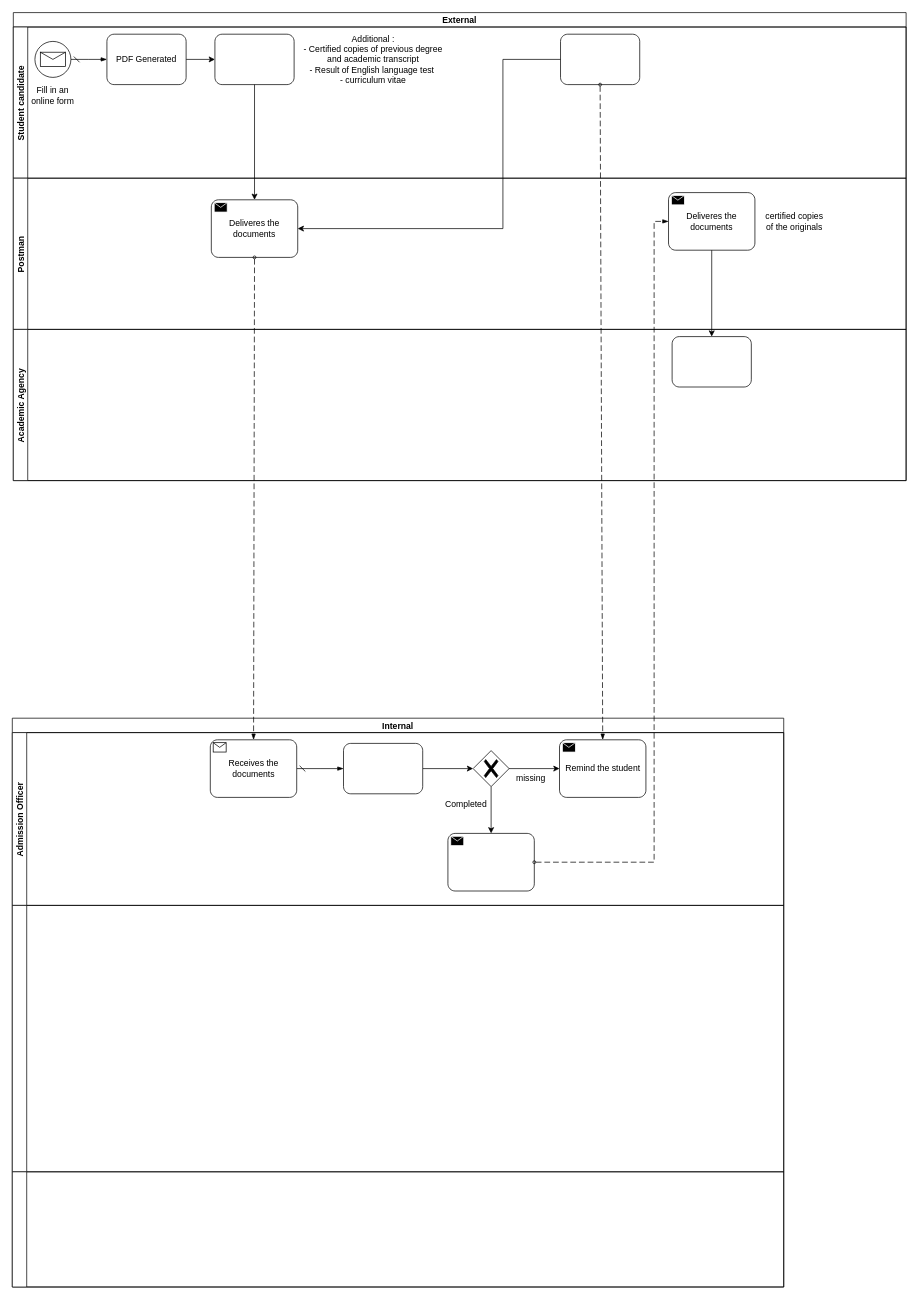
The diagram is 919 pixels wide and 1300 high, and some of its shapes have lost their labels. Each missing label, with the centre of its shape:
"Checks the completeness of the documents" belongs at (383,768).
"checks the degree and gives the assessment" belongs at (711,361).
"Lane 3" belongs at (398,1229).
"Send the certified copies of the degrees" belongs at (490,862).
"Student download the PDF, sign it, and send it by post" belongs at (254,59).
"Students resend the missing document" belongs at (600,59).
